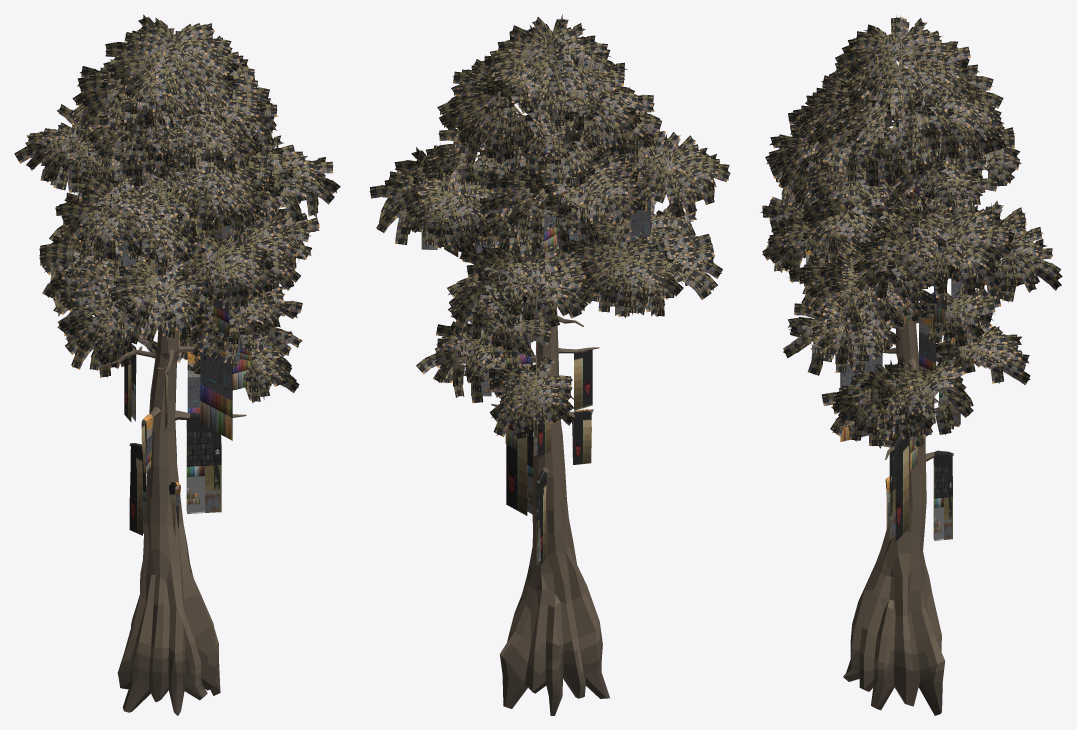
The model's file is swamp_SM_Env_Tree_Swamp_01_ALT.gltf.
3 views of the same model, side by side, from view 1: azimuth 30°, elevation 25°; view 2: azimuth 150°, elevation 25°; view 3: azimuth 270°, elevation 25° (orthographic).
Visible parts, largest first — view 1: SM_Env_Tree_Swamp_01_ALT_LOD0, SM_Env_Tree_Swamp_01_ALT_MOSS_LOD0; view 2: SM_Env_Tree_Swamp_01_ALT_LOD0, SM_Env_Tree_Swamp_01_ALT_MOSS_LOD0; view 3: SM_Env_Tree_Swamp_01_ALT_LOD0, SM_Env_Tree_Swamp_01_ALT_MOSS_LOD0.
Boxes of the visible parts, x1,y1,x2,y2 form: SM_Env_Tree_Swamp_01_ALT_LOD0: (14, 14, 340, 715); SM_Env_Tree_Swamp_01_ALT_MOSS_LOD0: (123, 213, 251, 535); SM_Env_Tree_Swamp_01_ALT_LOD0: (369, 14, 730, 715); SM_Env_Tree_Swamp_01_ALT_MOSS_LOD0: (421, 147, 650, 565); SM_Env_Tree_Swamp_01_ALT_LOD0: (760, 15, 1062, 715); SM_Env_Tree_Swamp_01_ALT_MOSS_LOD0: (806, 180, 986, 541).
Size of what is drawn, in the model's own units: 10.18 by 22.24 by 8.99.
1 material, 1 textured.
